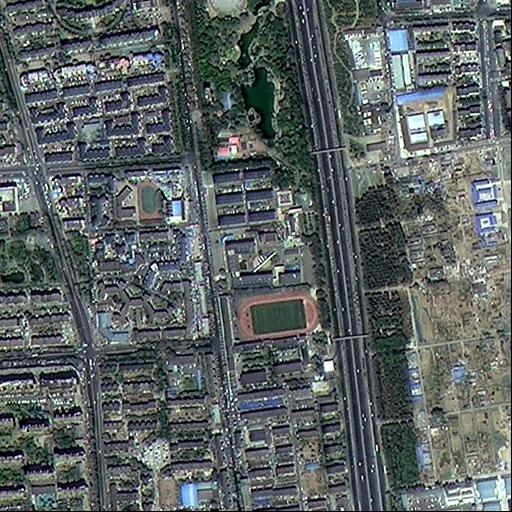school: (219, 289, 322, 387), (114, 177, 167, 227)
